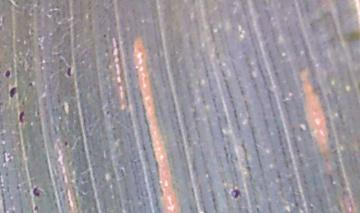tarspot: (229, 187, 241, 200), (17, 110, 26, 124), (8, 86, 18, 98), (31, 185, 40, 196), (65, 66, 73, 78), (104, 109, 114, 117), (63, 138, 70, 148), (4, 69, 11, 79), (33, 204, 40, 213), (26, 81, 34, 88), (101, 32, 108, 39), (102, 48, 110, 54)
